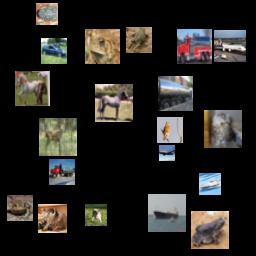airplane: (214, 30, 246, 62), (159, 145, 175, 161)
automobile: (41, 38, 67, 64)
bird: (157, 117, 183, 143)
cat: (204, 110, 242, 148), (38, 204, 67, 233)
deer: (39, 118, 77, 156)
dog: (85, 204, 107, 226)
frog: (191, 211, 229, 249), (85, 29, 120, 64), (126, 27, 152, 53), (7, 195, 33, 221), (36, 3, 58, 25)
ship: (148, 194, 186, 232), (199, 173, 221, 195)
truck: (158, 76, 193, 111), (177, 29, 212, 64), (49, 159, 75, 185)
